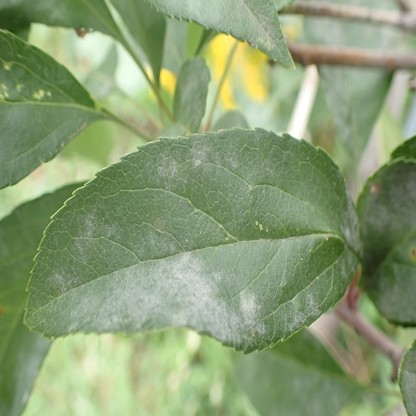powdery_mildew: (23, 126, 360, 352), (147, 0, 294, 67), (361, 166, 416, 324), (10, 337, 50, 416), (402, 343, 416, 415), (30, 0, 71, 22)
